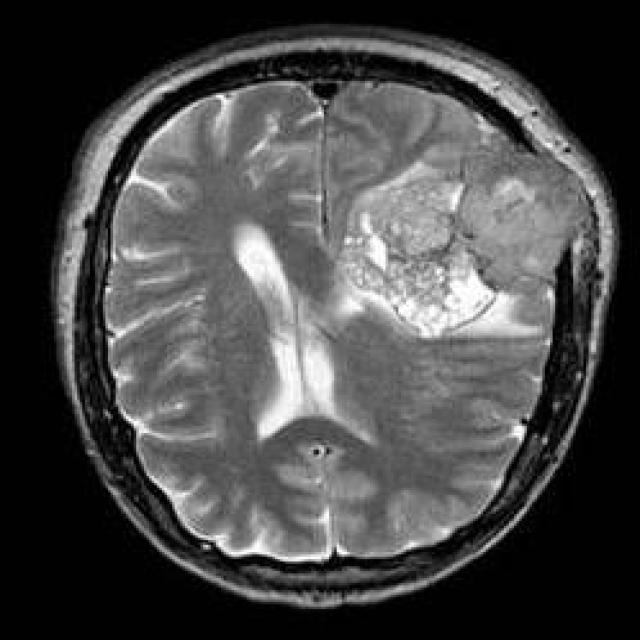brain tumor: (339, 159, 496, 340)
